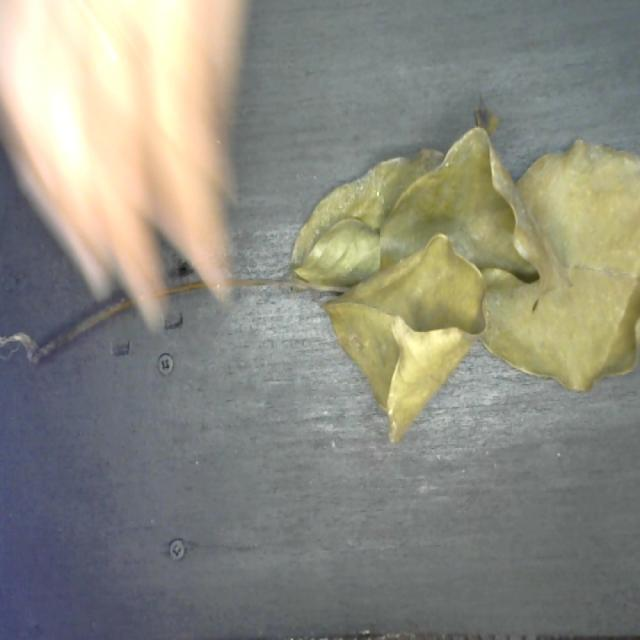biodegradable: (285, 90, 640, 442)
